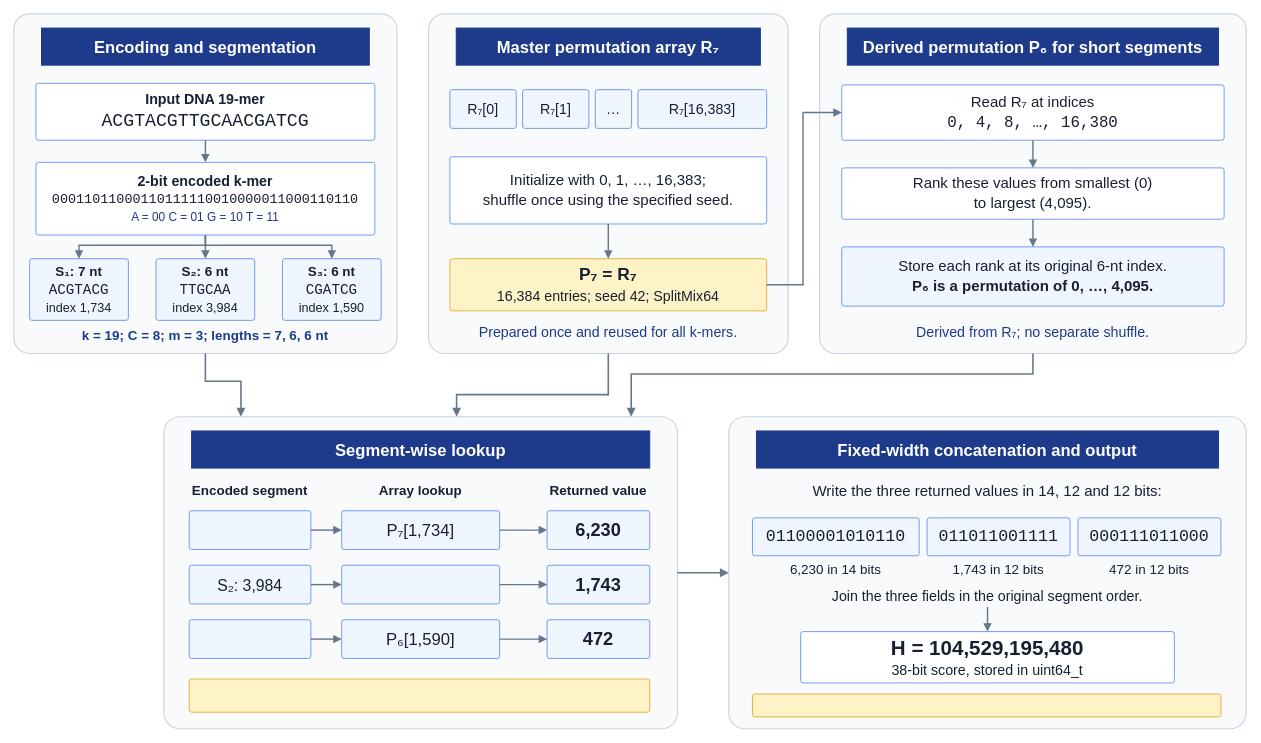
Image size: 1261x743. Some labels were removed from this diagram. The centre of each missing label's shape, as x and y in pixels:
"Both 6-nt segments use the same precomputed P₆ table." belongs at (x=419, y=695).
"Keep the leading zeros; each field has a fixed width." belongs at (x=986, y=705).
"P₆[3,984]" belongs at (x=420, y=584).
"S₁: 1,734" belongs at (x=249, y=530).
"S₃: 1,590" belongs at (x=249, y=639).
